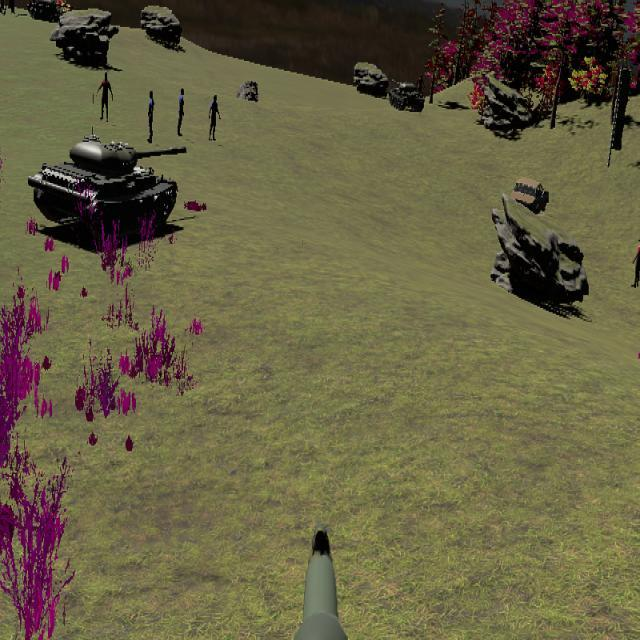Tank: (28, 134, 188, 243), (385, 74, 425, 113)
car: (506, 177, 549, 219)
